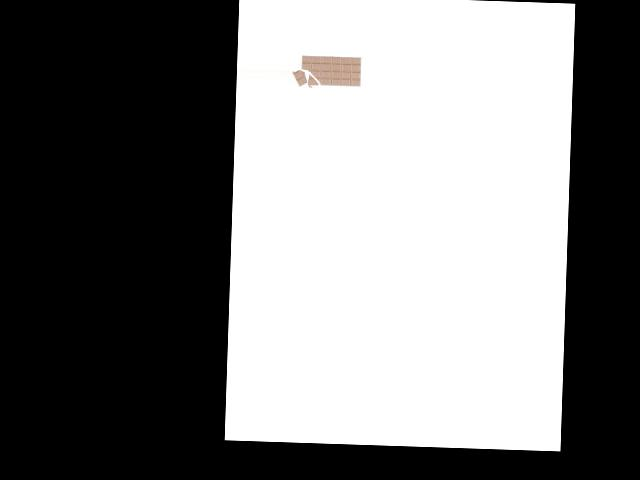chocolate: (291, 50, 362, 96)
